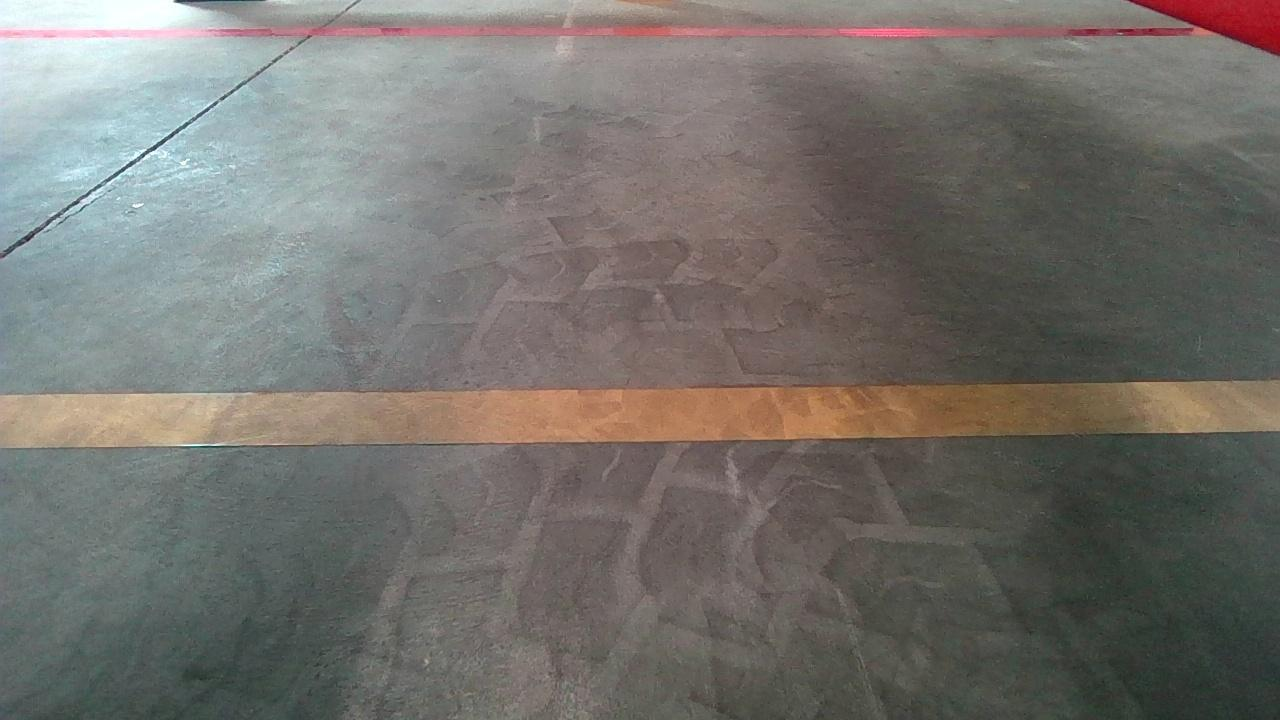red_line: (0, 26, 1211, 39)
yellow_line: (0, 378, 1277, 450)
